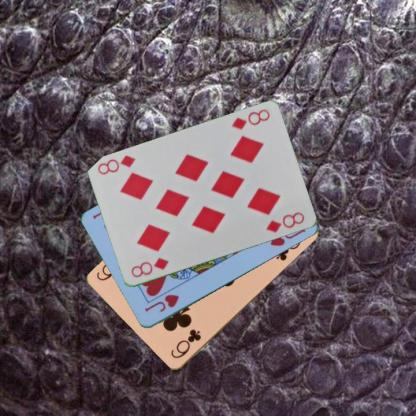6c: (168, 326, 203, 360)
8d: (128, 255, 170, 280), (229, 107, 271, 132)
Jh: (142, 292, 180, 314)
